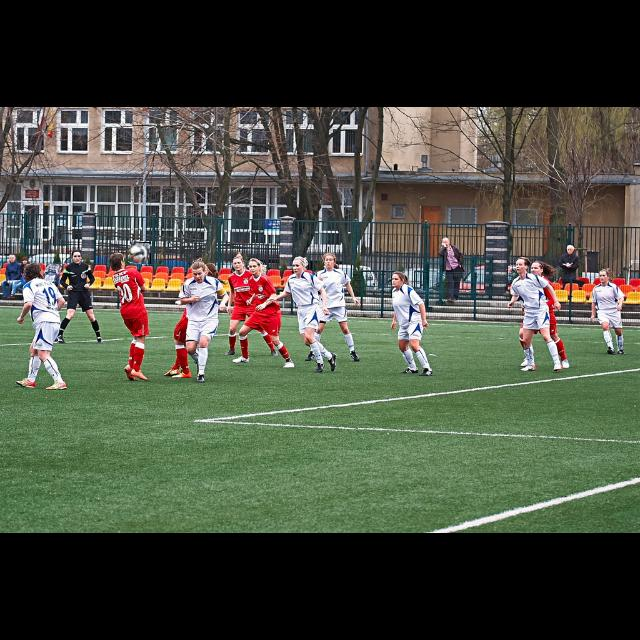Football: (129, 242, 151, 264)
